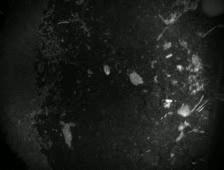corn: (102, 63, 111, 77)
